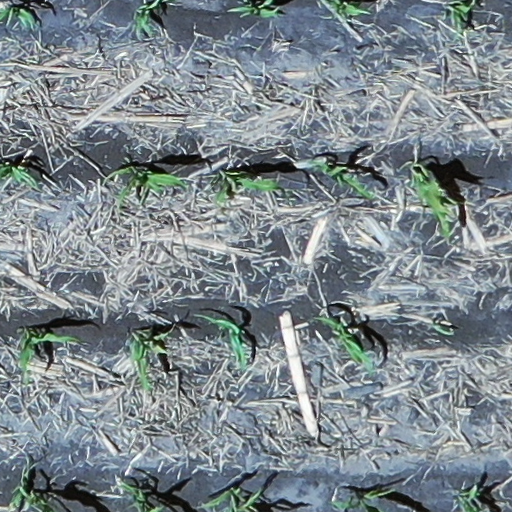planta: (411, 165, 461, 236), (98, 167, 186, 206), (318, 314, 373, 373), (18, 329, 77, 384), (129, 322, 176, 390), (191, 313, 247, 369), (311, 162, 373, 200), (213, 171, 280, 203)
